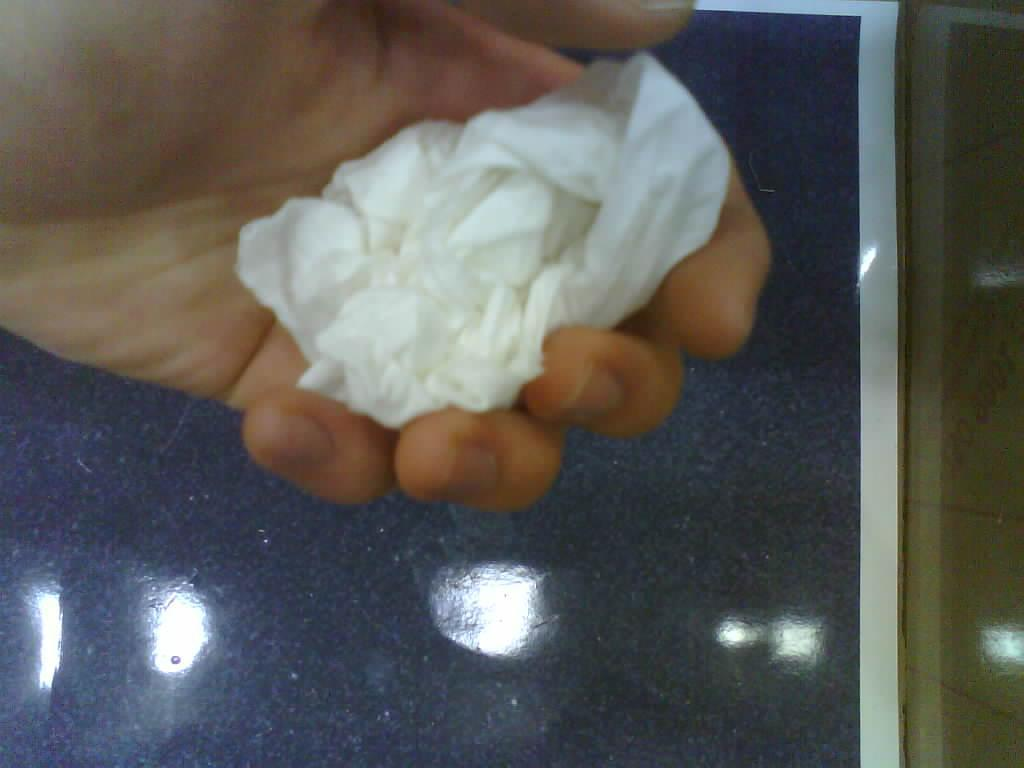paper: (240, 54, 730, 426)
